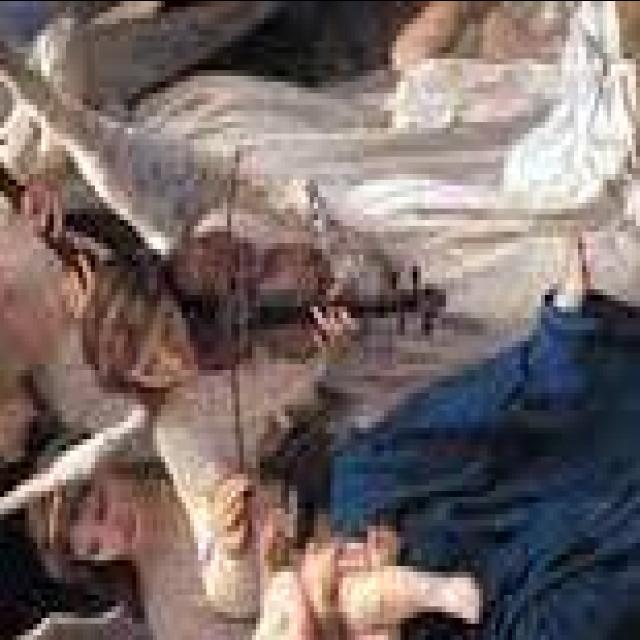angel: (46, 11, 586, 625)
